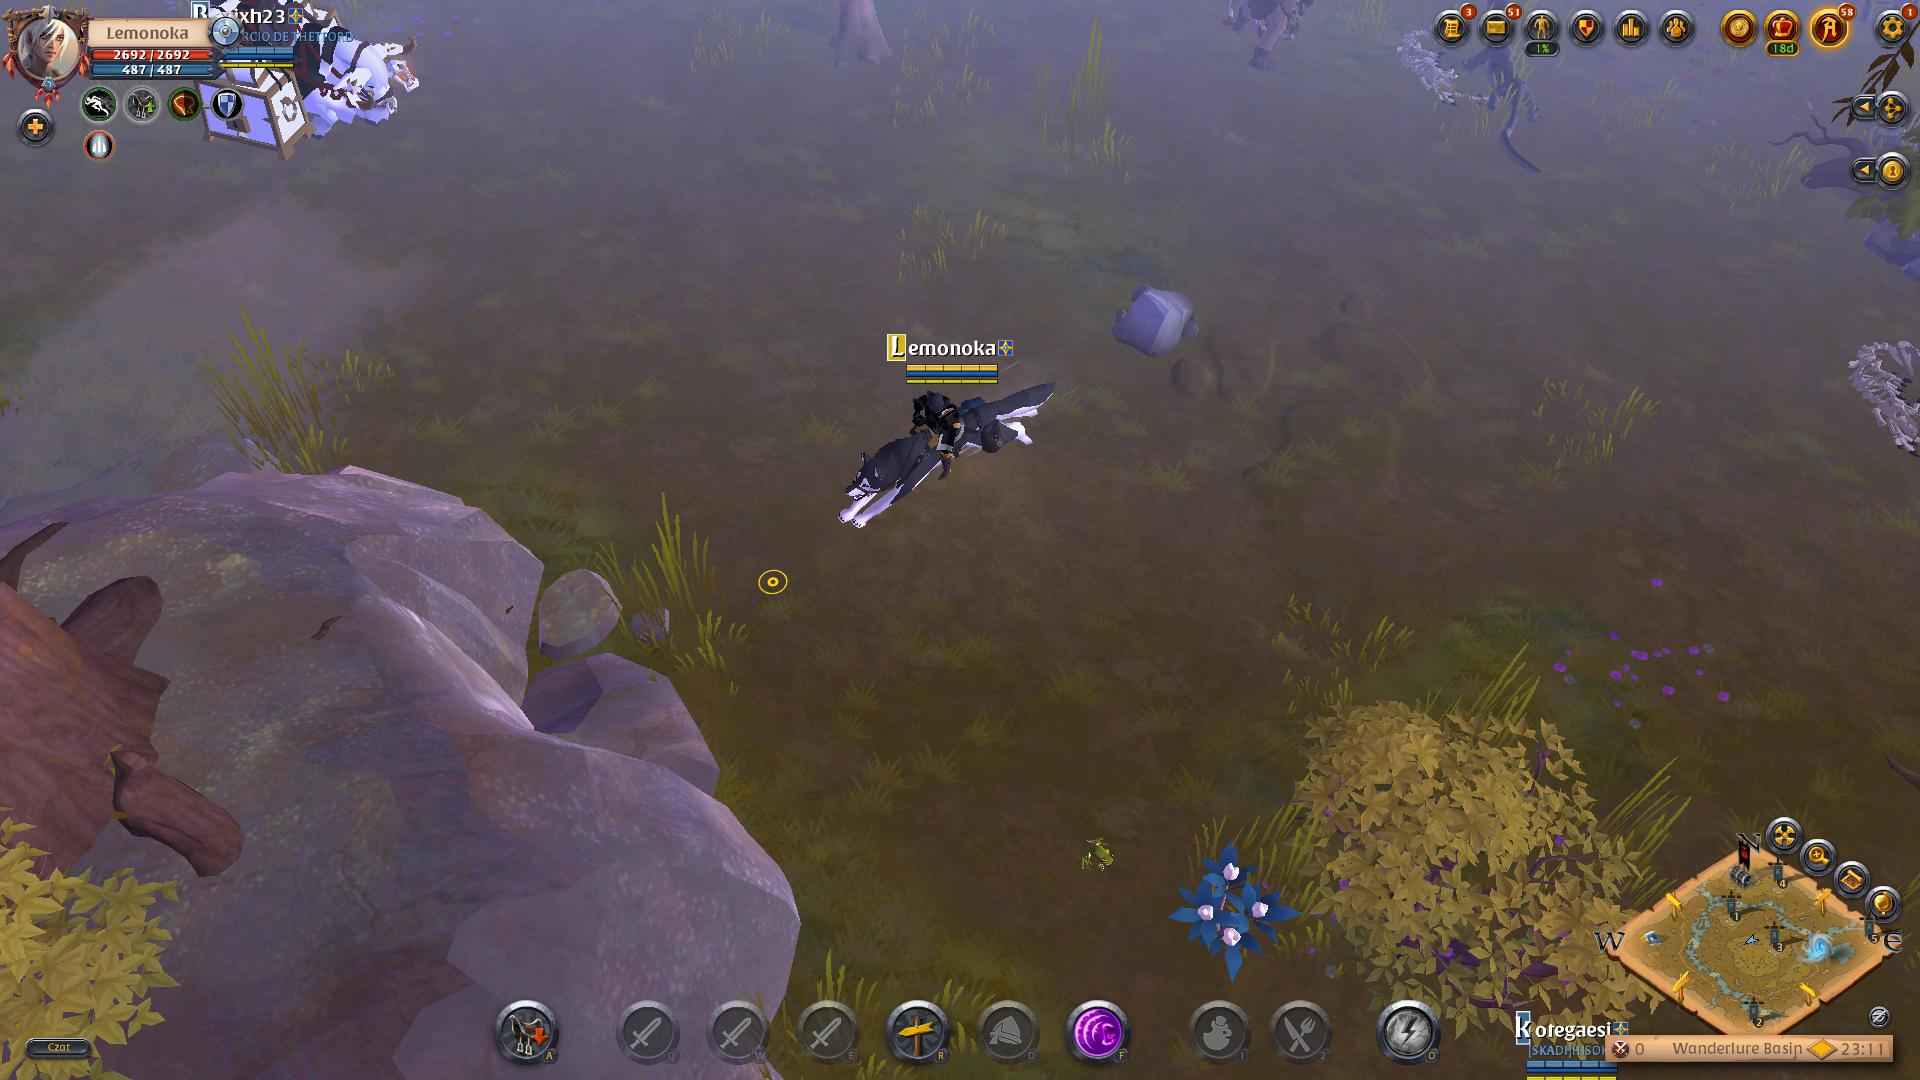fiber tier 4: (1167, 841, 1303, 981)
rock tier 1: (1106, 284, 1208, 365)
